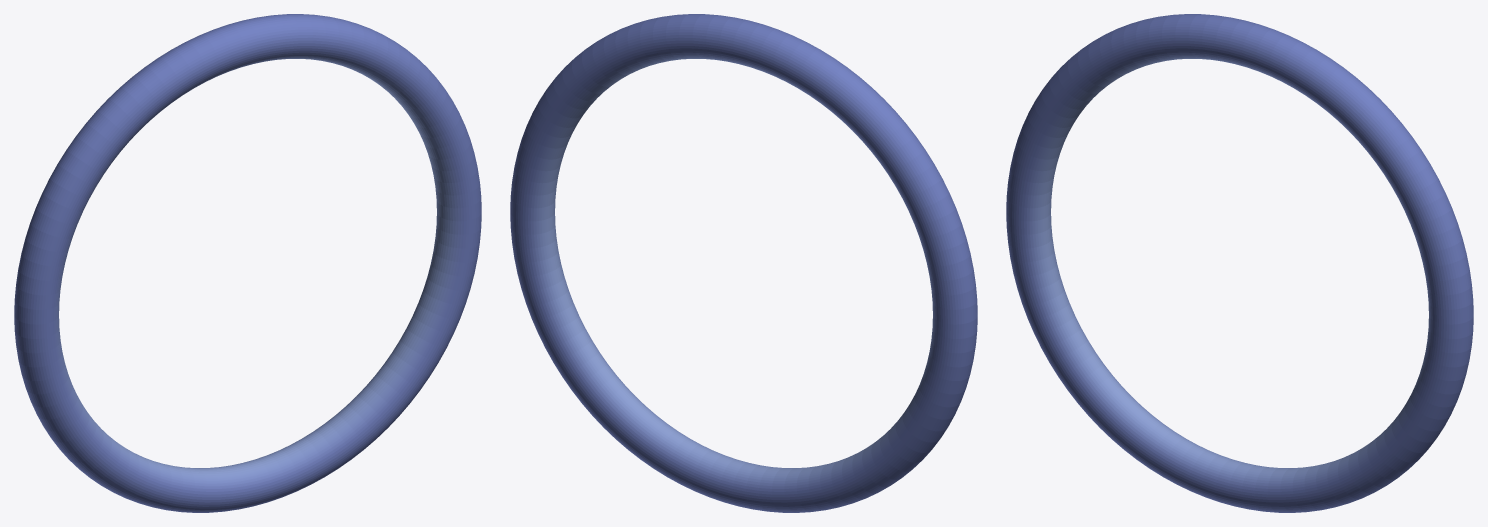
The picture shows the model from 3 angles, left to right: view 1: azimuth 30°, elevation 25°; view 2: azimuth 150°, elevation 25°; view 3: azimuth 330°, elevation 25°; orthographic projection.
Parts seen in each view (by area): view 1: world; view 2: world; view 3: world.
Part boxes in pixels (x1,y1,x2,y2): world: (14, 14, 481, 512); world: (510, 14, 977, 512); world: (1006, 14, 1473, 512).
Bounding box in the file's own units: 26.93 × 26.93 × 2.26.
